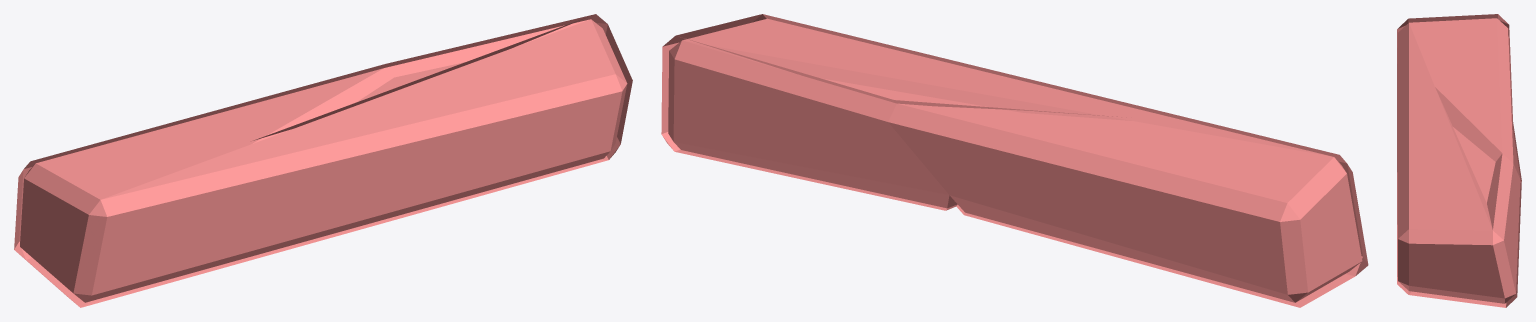
File: entity439572.gltf
The picture shows the model from 3 angles, left to right: view 1: azimuth 30°, elevation 25°; view 2: azimuth 150°, elevation 25°; view 3: azimuth 270°, elevation 25°; orthographic projection. The views are drawn at different scales.
Visible parts, largest first — view 1: node_stair6; view 2: node_stair6; view 3: node_stair6.
Boxes of the visible parts, left/top/right/bottom form: node_stair6: left=14, top=14, right=632, bottom=307; node_stair6: left=661, top=14, right=1368, bottom=307; node_stair6: left=1397, top=14, right=1521, bottom=307.
Bounding box in the file's own units: 582 × 111 × 129.
